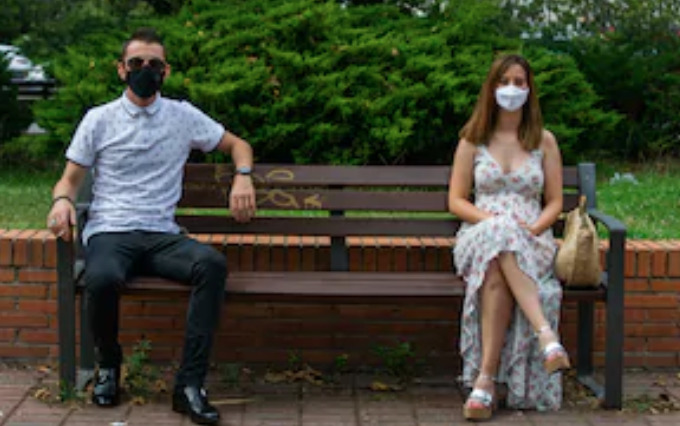Caution: (47, 32, 565, 412)
